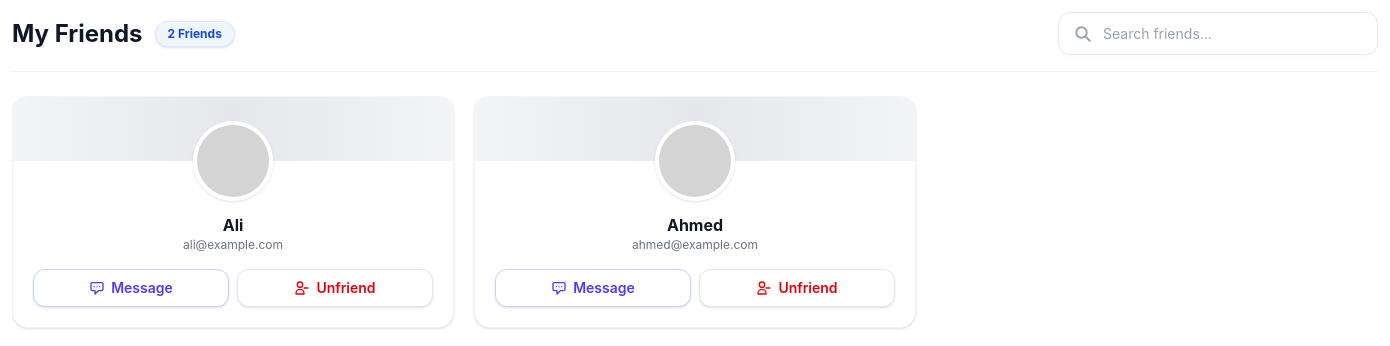
it: MyNetwork › should search friends
Expected: the heading "Ali" is shown, [223, 215, 243, 235]
Type "Ali" into the field with placeholder "Search friends...".
click(1218, 34); type("Ali")  # box [1058, 12, 1378, 55]
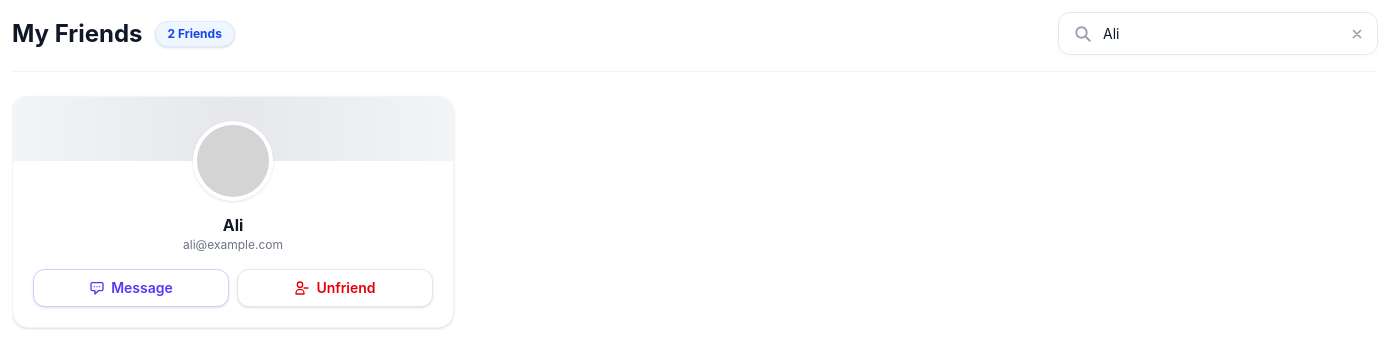
Expected: the heading "Ali" is shown, [223, 215, 243, 235]
Now the heading "Ahmed" is gone
